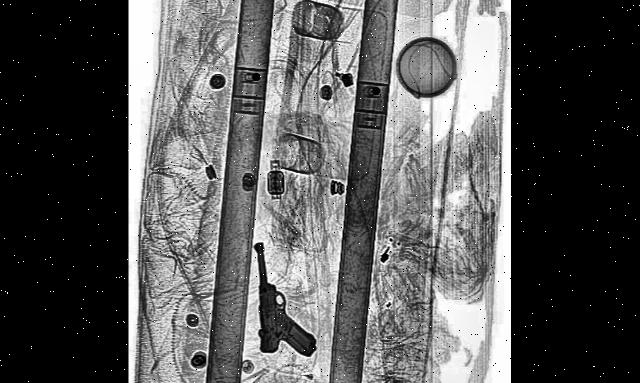Gun: (240, 223, 316, 382)
